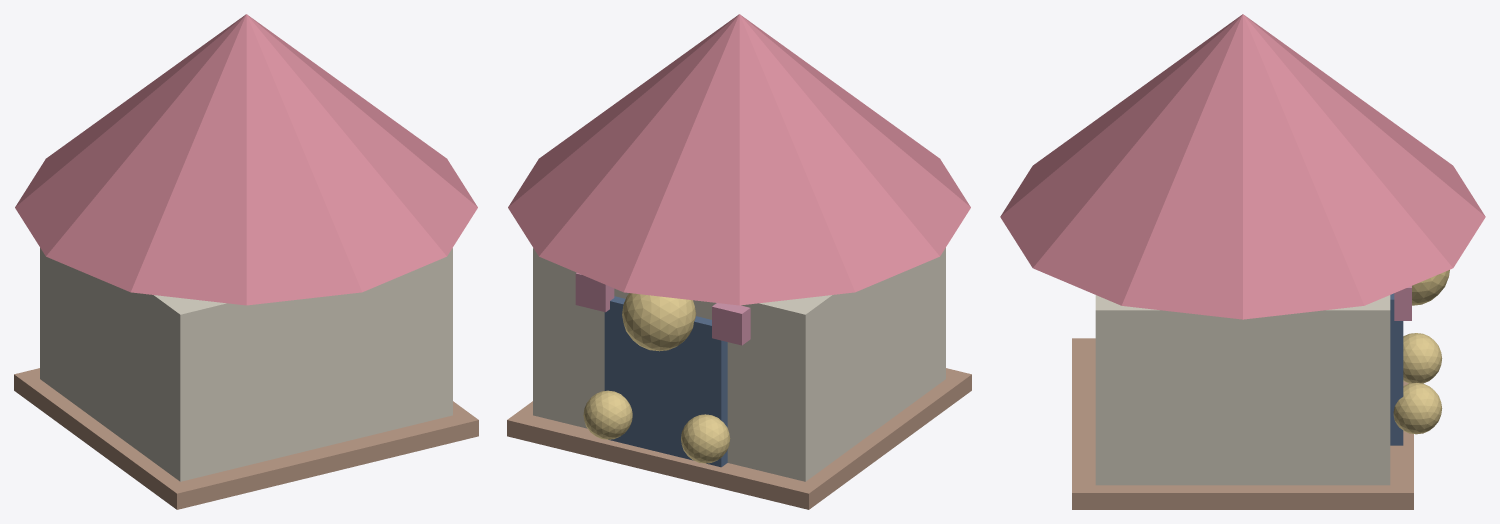
File: pet_house.glb
3 views of the same model, side by side, from view 1: azimuth 30°, elevation 25°; view 2: azimuth 150°, elevation 25°; view 3: azimuth 270°, elevation 25° (orthographic). The views are drawn at different scales.
Visible parts, largest first — view 1: pet_house; view 2: pet_house; view 3: pet_house.
Part boxes in pixels (x1=…): pet_house: x1=14, y1=14, x2=478, y2=509; pet_house: x1=507, y1=14, x2=971, y2=509; pet_house: x1=1000, y1=14, x2=1485, y2=509.
Bounding box in the file's own units: 4.12 × 3.92 × 4.12.
